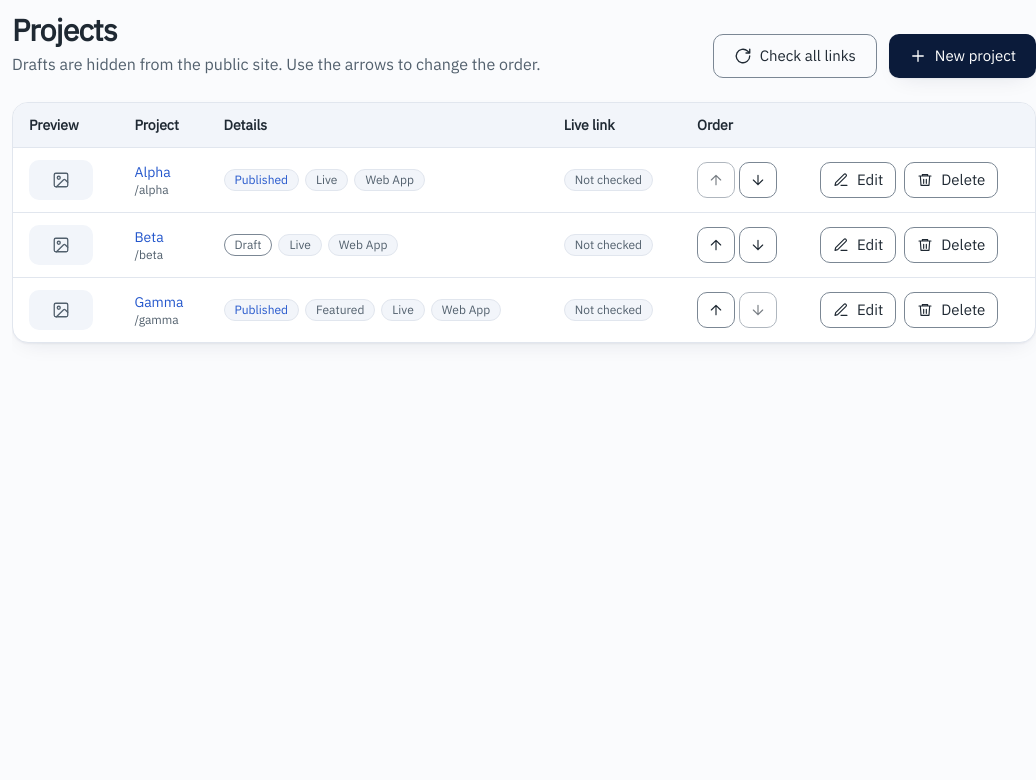
Test: ProjectsPage › reports a failed link check instead of failing silently
Click the button "Check all links" at [795, 56], box [713,34,877,78]
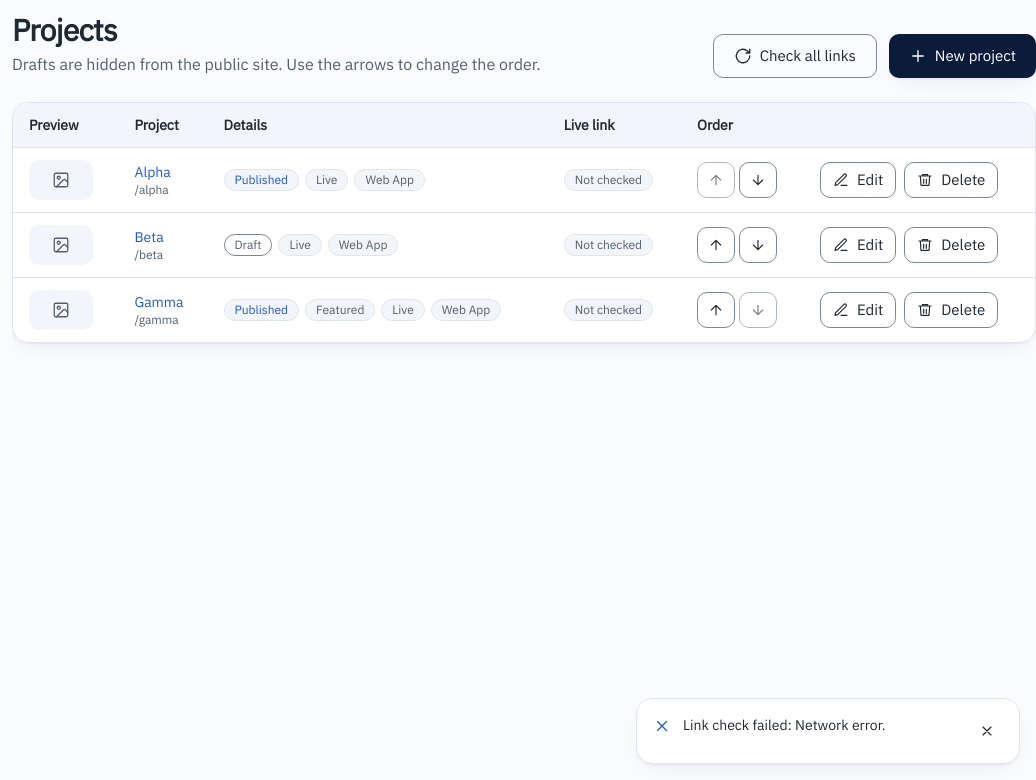
Expected: the text "Link check failed: Network error." is shown, [683,716,886,734]
